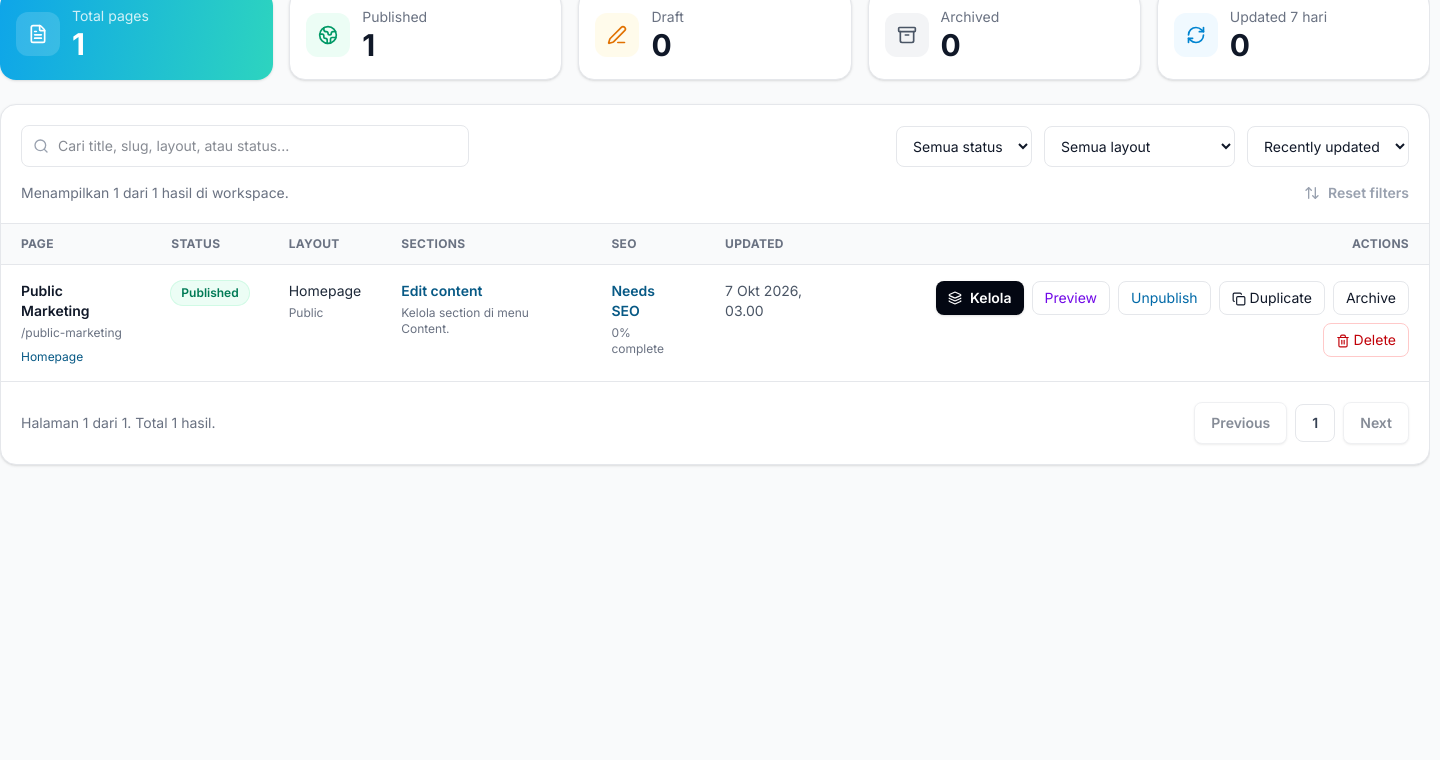
Test case: LandingPagesManagementPage - is_homepage pada edit › checkbox menampilkan nilai awal dari data halaman
Step 1. Click the button "Kelola" → (980, 298), box x1=936 y1=281 x2=1024 y2=315
(page scrolled)
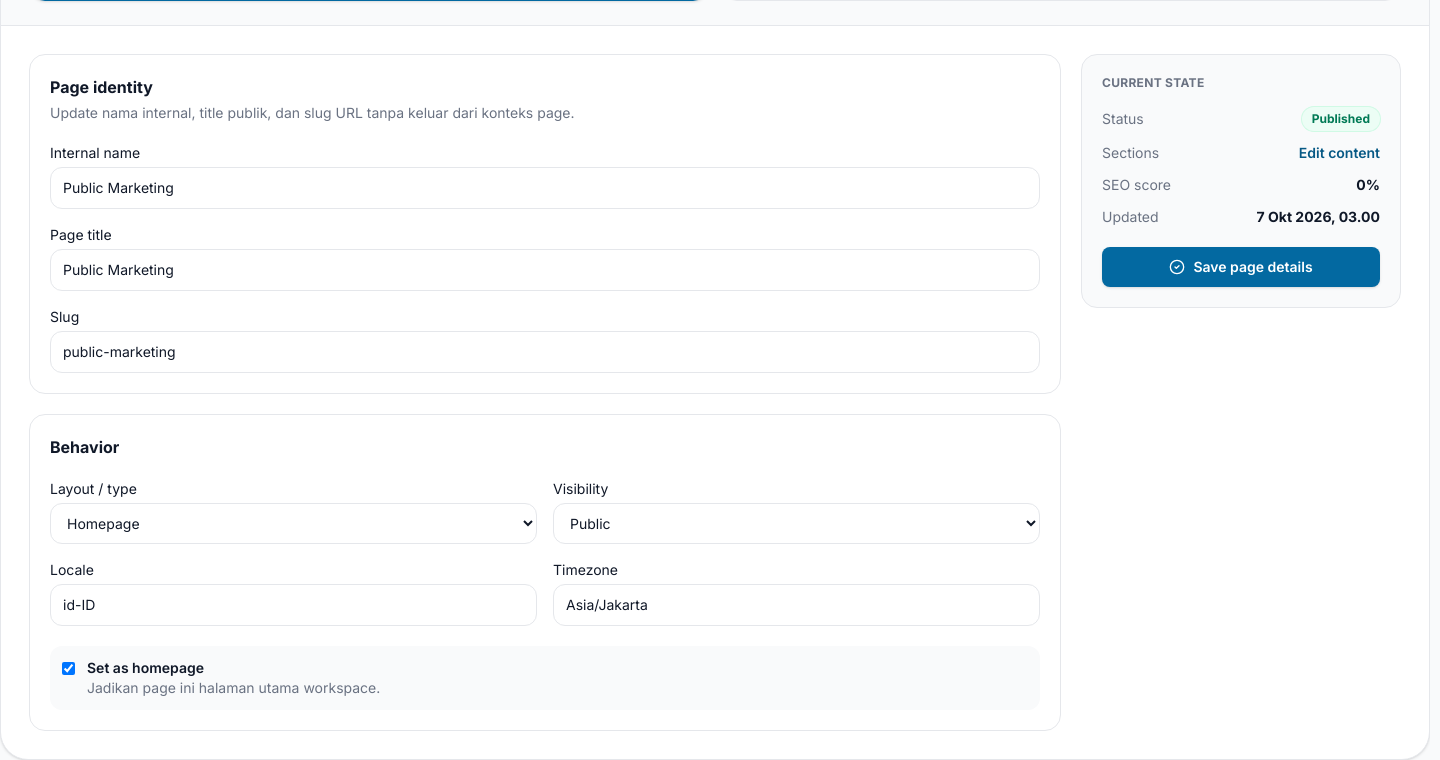
Expected: the checkbox labelled "Set as homepage Jadikan page ini halaman utama workspace." is checked, x1=62 y1=662 x2=75 y2=675
